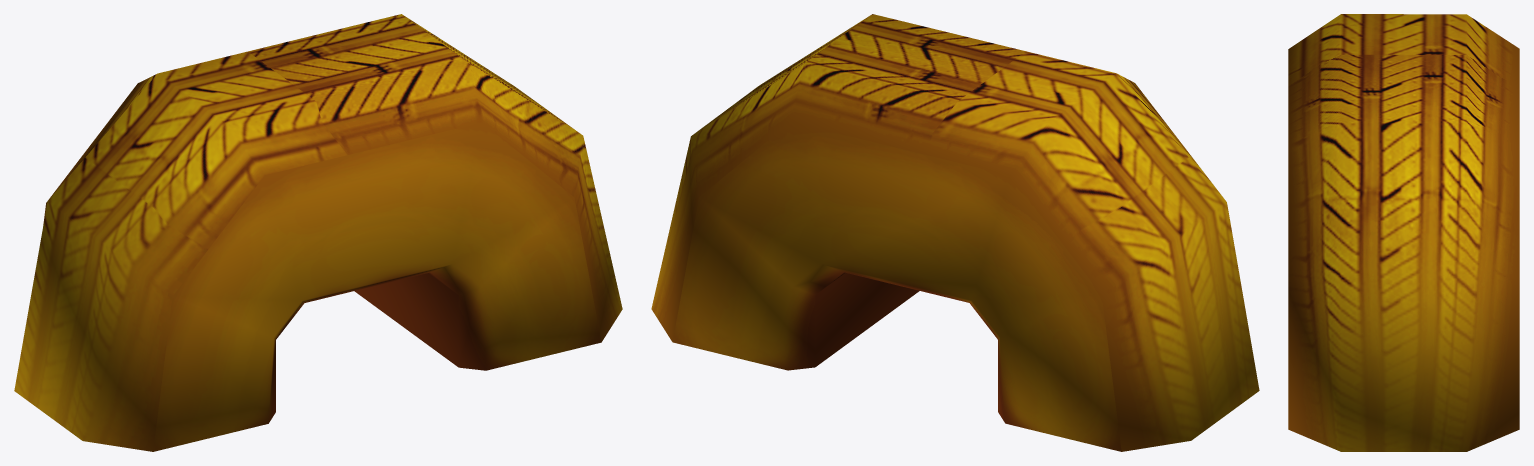
File: playground_tirepp1.FBX
The picture shows the model from 3 angles, left to right: view 1: azimuth 30°, elevation 25°; view 2: azimuth 150°, elevation 25°; view 3: azimuth 270°, elevation 25°; orthographic projection. The views are drawn at different scales.
Visible parts, largest first — view 1: Box001; view 2: Box001; view 3: Box001.
Part boxes in pixels (box(x1,y1,x2,y2)): Box001: box(14, 14, 622, 451); Box001: box(651, 14, 1259, 451); Box001: box(1288, 14, 1519, 451).
Size of the model in its own units: 37.18 by 18.6 by 15.02.
